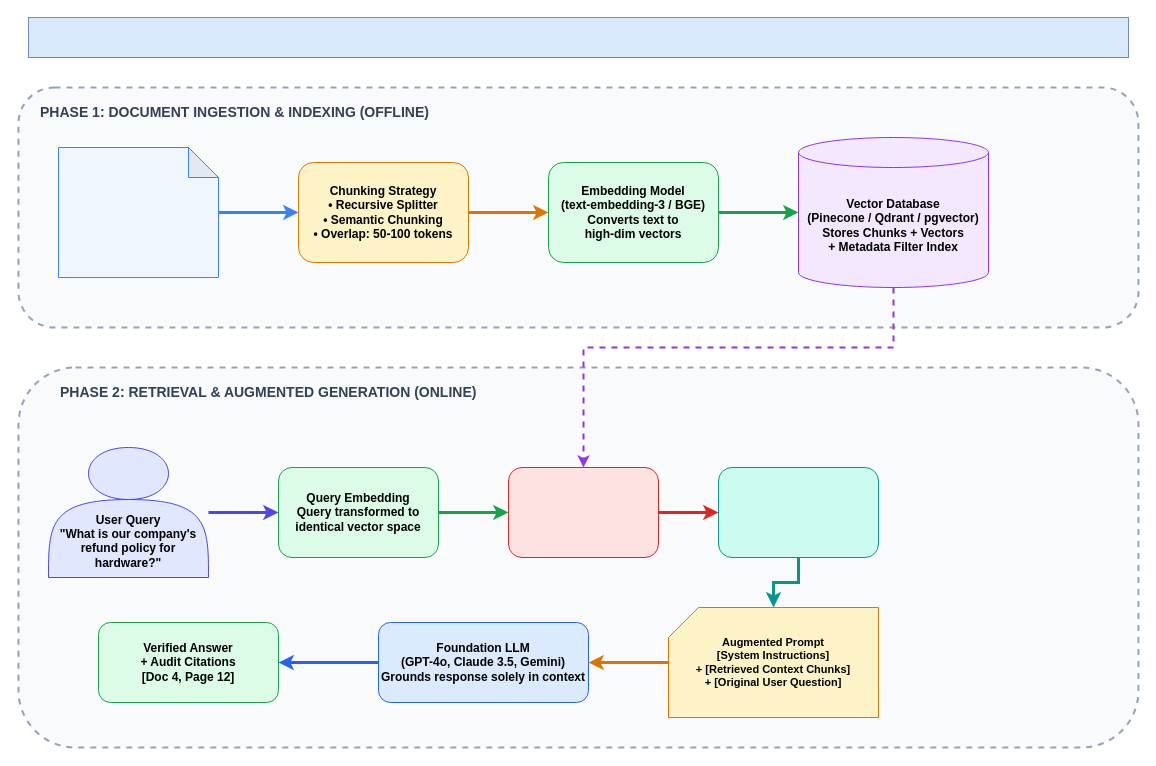
The diagram is 1156 pixels wide and 766 high, and some of its shapes have lost their labels. The shapes that lost their labels are listed below. From the top down, each one's centre as x and y in pixels, then its label:
point (578, 37): Enterprise Retrieval-Augmented Generation (RAG) Architecture
point (138, 212): Enterprise Documents (PDFs, Word, Markdown, SQL)
point (583, 512): Hybrid Retrieval • Vector (Dense) • BM25 (Sparse) Cosine Similarity
point (798, 512): Re-Ranker (Cross-Encoder) Rescores Top 30 down to Top 5 Chunks
